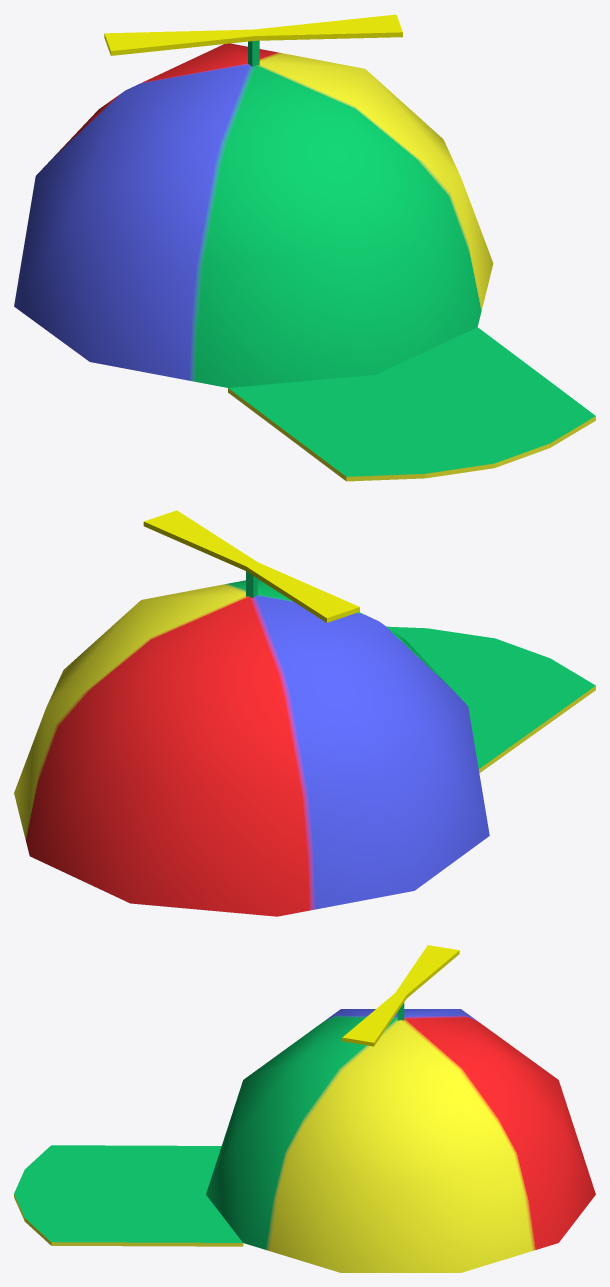
File: amogus-hat-kid.fbx
3 renders of one model, top to bottom at view 1: azimuth 30°, elevation 25°; view 2: azimuth 150°, elevation 25°; view 3: azimuth 270°, elevation 25°, orthographic. The views are drawn at different scales.
Parts seen in each view (by area): view 1: KidHat; view 2: KidHat; view 3: KidHat.
Part boxes in pixels (x1,y1,x2,y2): KidHat: (14,14,595,481); KidHat: (14,510,595,916); KidHat: (14,945,595,1272).
Size of the model in its own units: 86.4 by 136 by 52.51.
